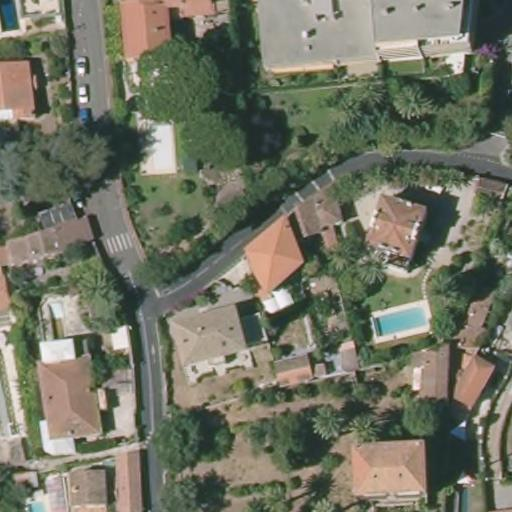pool: (372, 305, 433, 338), (0, 0, 20, 35), (26, 493, 47, 511)
